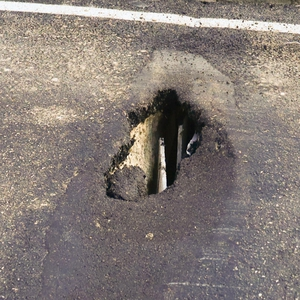pothole: (104, 86, 204, 209)
